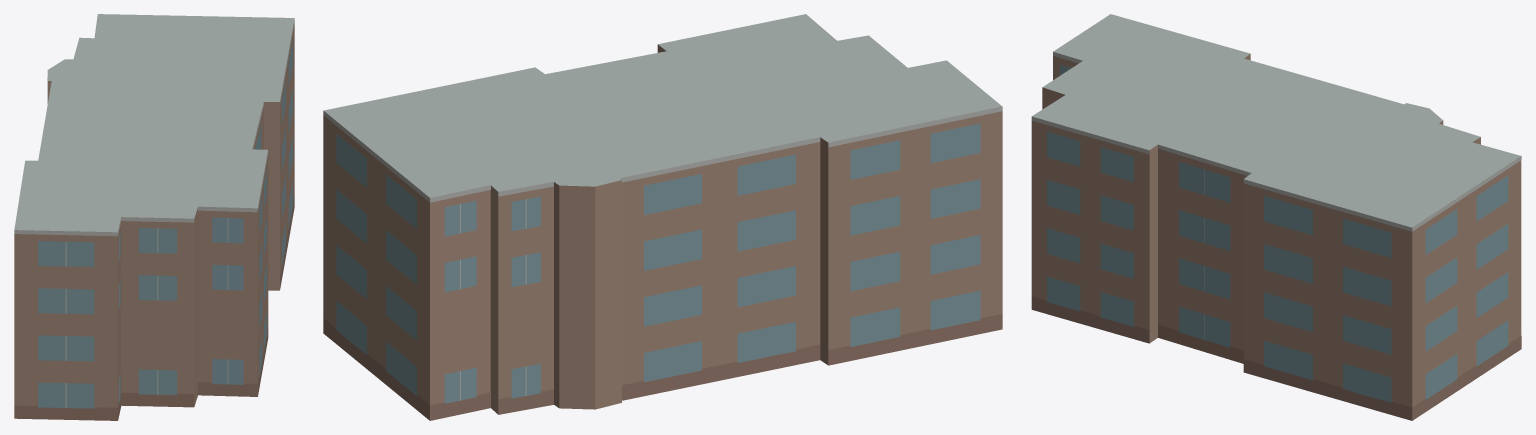
Rendered from survey-upis-32731291.glb.
3 views of the same model, side by side, from view 1: azimuth 30°, elevation 25°; view 2: azimuth 150°, elevation 25°; view 3: azimuth 270°, elevation 25° (orthographic). The views are drawn at different scales.
Visible parts, largest first — view 1: survey-upis-32731291.tmp; view 2: survey-upis-32731291.tmp; view 3: survey-upis-32731291.tmp.
Part boxes in pixels (x1=…): survey-upis-32731291.tmp: x1=14, y1=14, x2=294, y2=420; survey-upis-32731291.tmp: x1=323, y1=14, x2=1002, y2=420; survey-upis-32731291.tmp: x1=1031, y1=14, x2=1521, y2=420.
Bounding box in the file's own units: 27.52 × 11.6 × 26.66.
